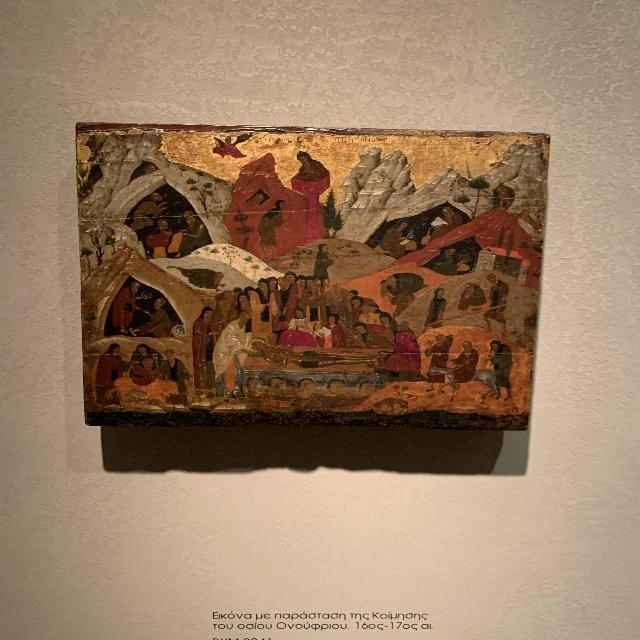saint_Onophrious: (249, 335, 392, 391)
